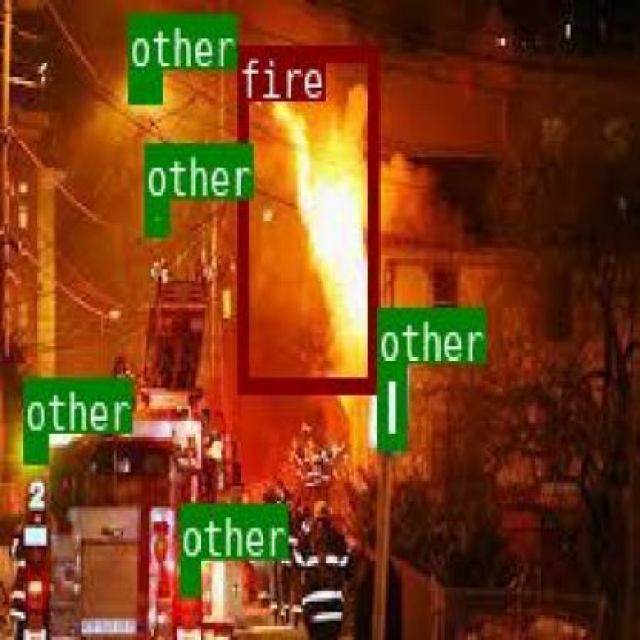Fire: (236, 45, 375, 390)
